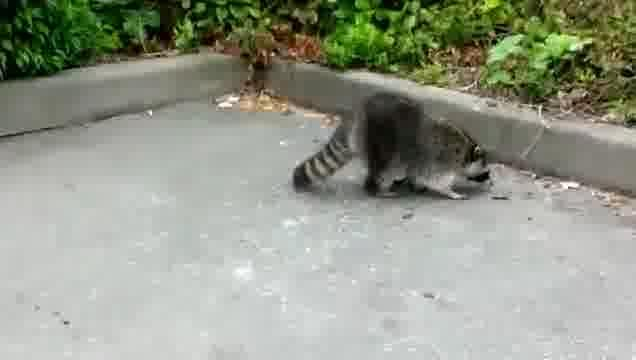raccoon: (287, 93, 493, 203)
